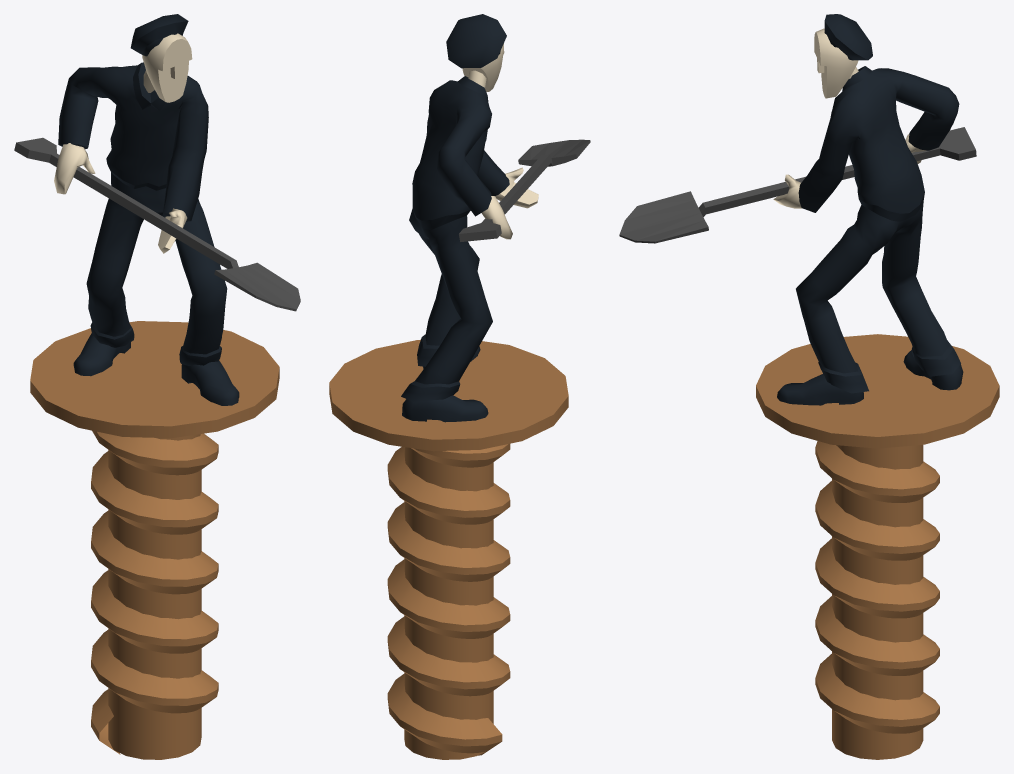
File: mesh_CrematoriumShoveler.fbx
3 views of the same model, side by side, from view 1: azimuth 30°, elevation 25°; view 2: azimuth 150°, elevation 25°; view 3: azimuth 270°, elevation 25° (orthographic). The views are drawn at different scales.
Visible parts, largest first — view 1: mesh_ShovelFigure; view 2: mesh_ShovelFigure; view 3: mesh_ShovelFigure.
Part boxes in pixels (box(x1,y1,x2,y2)): mesh_ShovelFigure: box(14, 14, 300, 759); mesh_ShovelFigure: box(329, 14, 590, 759); mesh_ShovelFigure: box(619, 14, 999, 759).
Size of the model in its own units: 53.62 by 176 by 83.65.
